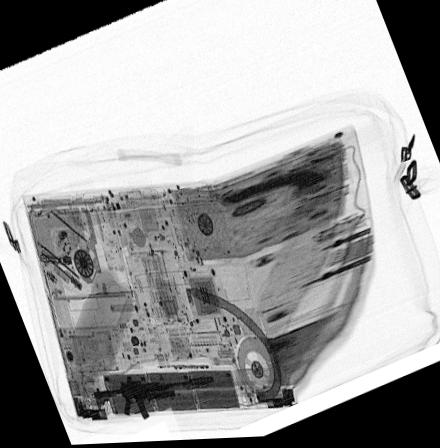Gun: (90, 374, 214, 421)
